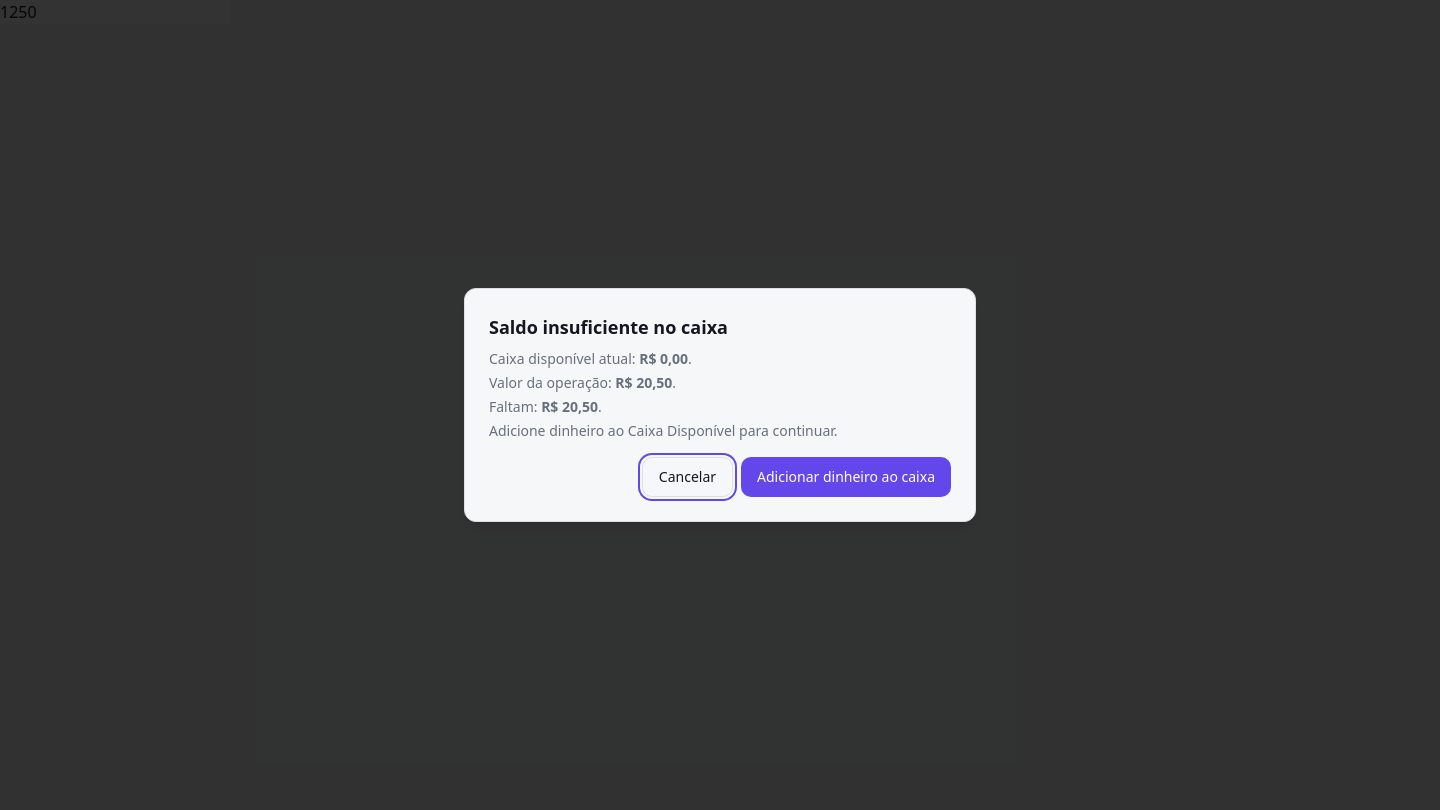
it: entrada monetária do modal de saldo insuficiente › preenche 20.5 com duas casas brasileiras
Click the button "Adicionar dinheiro ao caixa": (846, 477) x1=741 y1=457 x2=951 y2=497
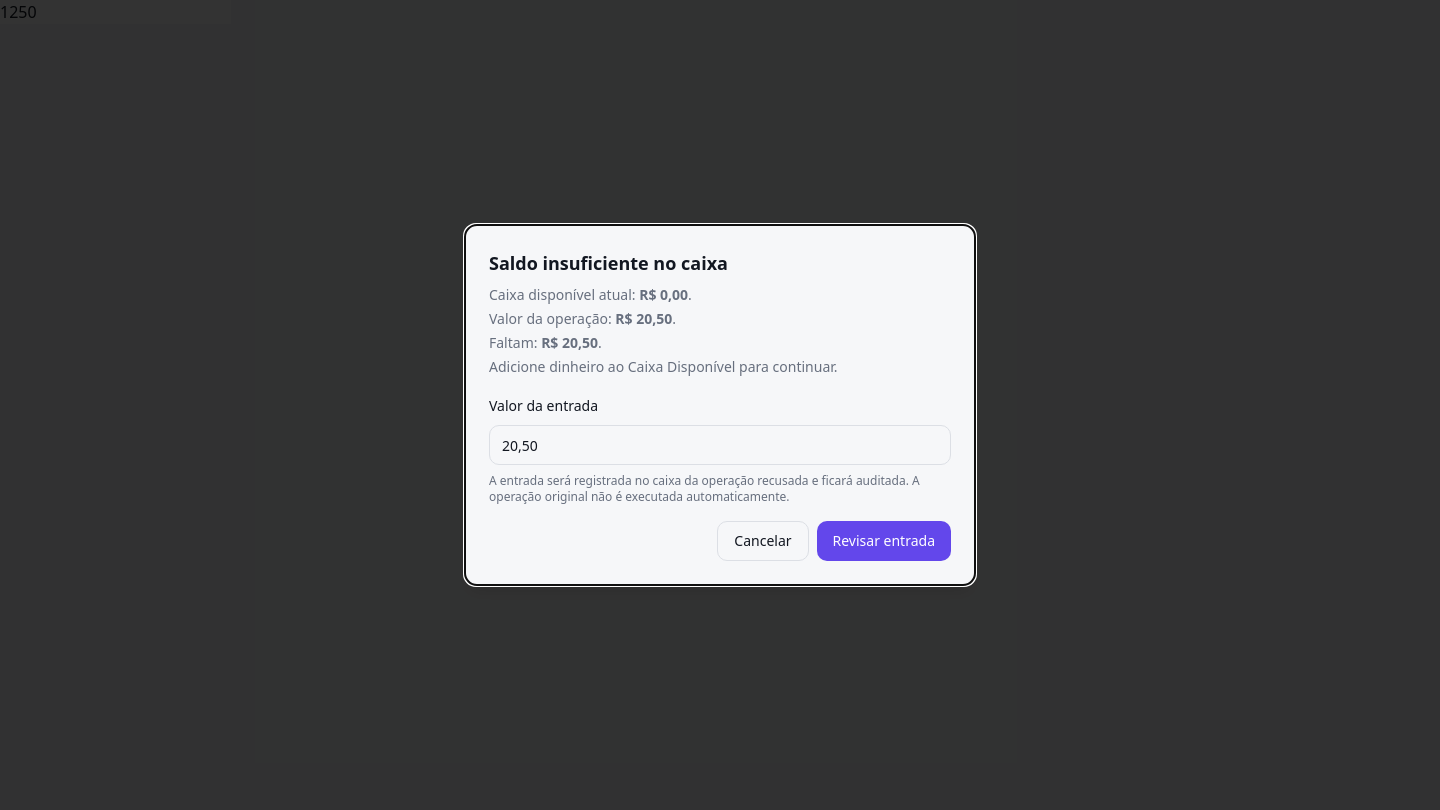
Expected: the field labelled "Valor da entrada" holds "20,50", x1=489 y1=425 x2=951 y2=465
